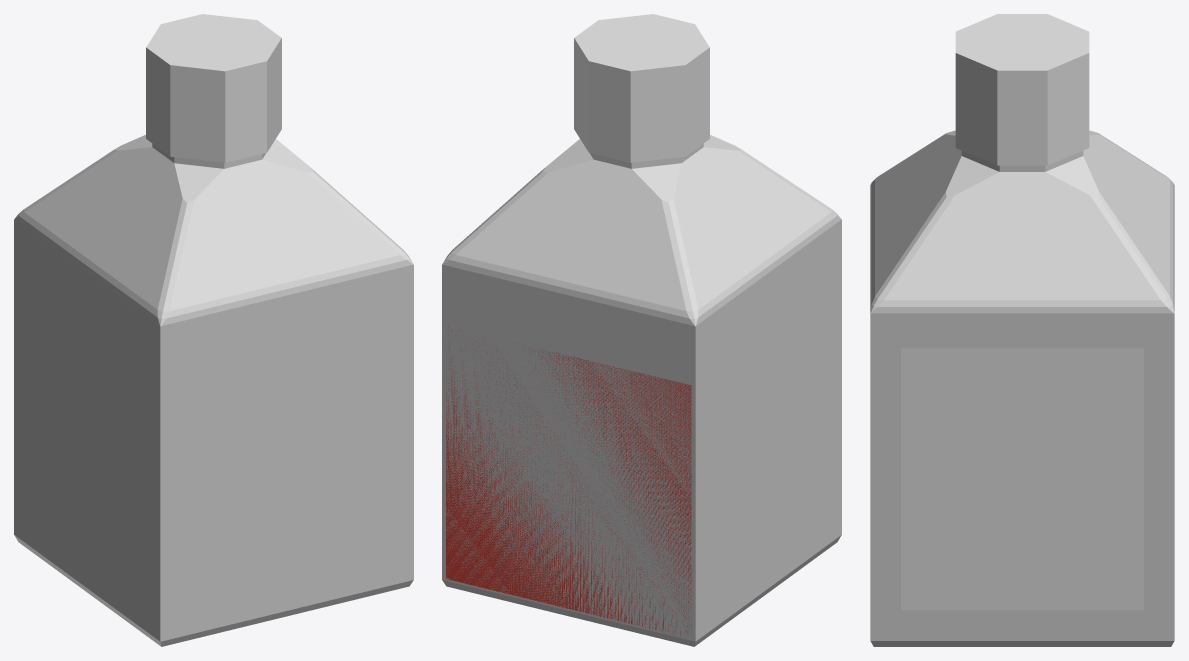
Rendered from mediaBottle.fbx.
3 renders of one model, left to right at view 1: azimuth 30°, elevation 25°; view 2: azimuth 150°, elevation 25°; view 3: azimuth 270°, elevation 25°, orthographic. The views are drawn at different scales.
Parts seen in each view (by area): view 1: Cube, Cube.005; view 2: Cube, Cube.006, Cube.005; view 3: Cube, Plane, Cube.005.
Part boxes in pixels (x1,y1,x2,y2): Cube: (14,135,413,646); Cube.005: (146,14,281,162); Cube: (442,135,841,646); Cube.006: (446,326,691,635); Cube.005: (574,14,709,162); Cube: (870,130,1174,646); Plane: (901,348,1143,610); Cube.005: (955,14,1089,165).
Bounding box in the file's own units: 200 × 396 × 200.
